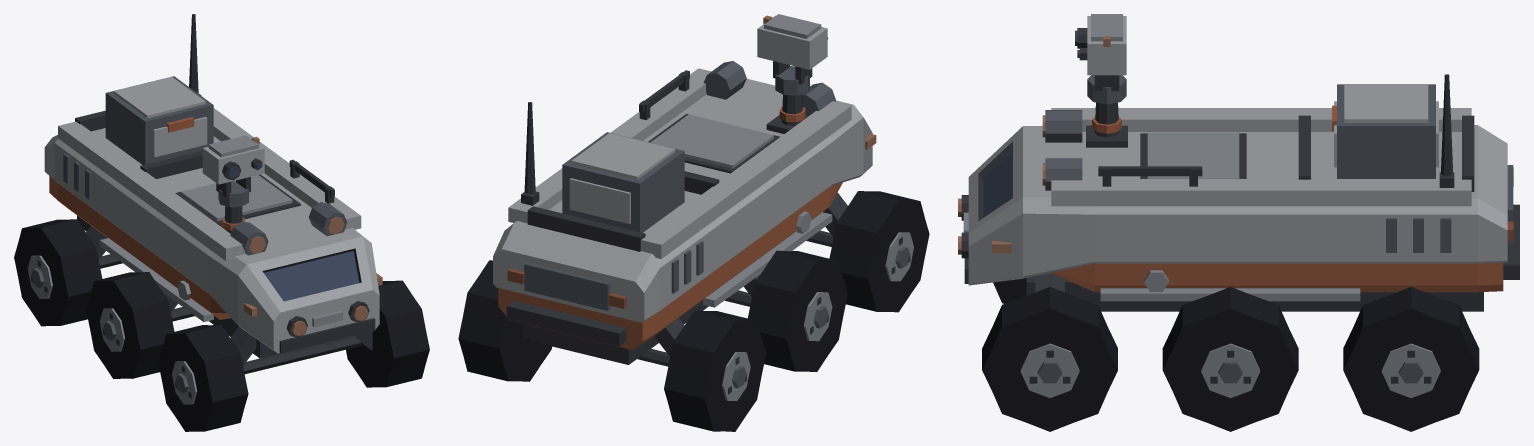
File: exploration-rover-7afd91.glb
3 renders of one model, left to right at view 1: azimuth 30°, elevation 25°; view 2: azimuth 150°, elevation 25°; view 3: azimuth 270°, elevation 25°, orthographic. The views are drawn at different scales.
Visible parts, largest first — view 1: exploration-rover, wheel-fl, cargo-crate, wheel-rl, wheel-ml, wheel-fr, camera-head; view 2: exploration-rover, wheel-rl, cargo-crate, wheel-fl, wheel-ml, wheel-rr, camera-head; view 3: exploration-rover, wheel-rr, wheel-mr, wheel-fr, cargo-crate, camera-head, wheel-fl.
Boxes of the visible parts, x1=… form: exploration-rover: x1=44, y1=14, x2=382, y2=374; wheel-fl: x1=158, y1=324, x2=248, y2=431; cargo-crate: x1=105, y1=76, x2=213, y2=164; wheel-rl: x1=14, y1=219, x2=102, y2=326; wheel-ml: x1=86, y1=272, x2=174, y2=379; wheel-fr: x1=346, y1=280, x2=429, y2=387; camera-head: x1=202, y1=135, x2=264, y2=207; exploration-rover: x1=493, y1=61, x2=876, y2=366; wheel-rl: x1=664, y1=310, x2=765, y2=431; cargo-crate: x1=562, y1=132, x2=684, y2=232; wheel-fl: x1=829, y1=191, x2=929, y2=312; wheel-ml: x1=747, y1=250, x2=847, y2=371; wheel-rr: x1=458, y1=260, x2=552, y2=381; camera-head: x1=757, y1=14, x2=828, y2=95; exploration-rover: x1=958, y1=74, x2=1519, y2=311; wheel-rr: x1=1343, y1=287, x2=1479, y2=431; wheel-mr: x1=1162, y1=287, x2=1298, y2=431; wheel-fr: x1=982, y1=287, x2=1117, y2=431; cargo-crate: x1=1332, y1=84, x2=1438, y2=178; camera-head: x1=1075, y1=14, x2=1126, y2=104; wheel-fl: x1=993, y1=278, x2=1026, y2=303.
Size of the model in its own units: 2.66 by 2.91 by 4.55.
